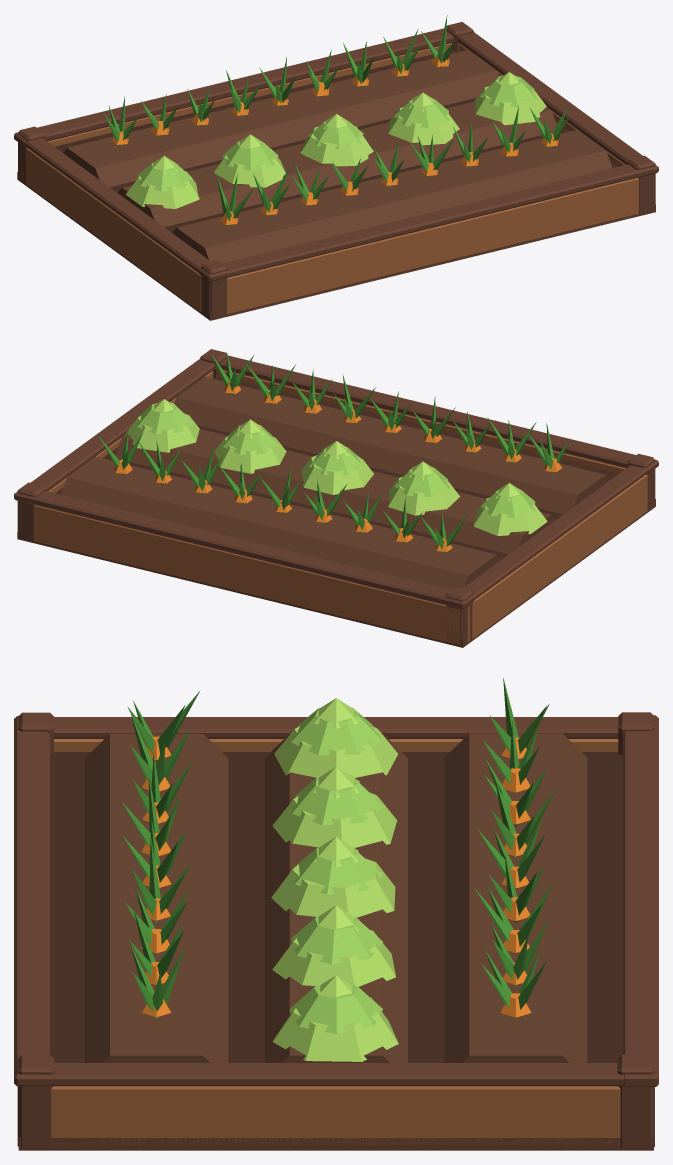
The model's file is CropBed_Carrot.fbx.
3 views of the same model, one above another, from view 1: azimuth 30°, elevation 25°; view 2: azimuth 150°, elevation 25°; view 3: azimuth 270°, elevation 25° (orthographic). The views are drawn at different scales.
Parts seen in each view (by area): view 1: CropBed_Carrot; view 2: CropBed_Carrot; view 3: CropBed_Carrot.
Part boxes in pixels (x1,y1,x2,y2): CropBed_Carrot: (14, 15, 658, 320); CropBed_Carrot: (14, 349, 658, 647); CropBed_Carrot: (14, 678, 658, 1150).
Size of the model in its own units: 4.05 by 0.8005 by 3.05.
